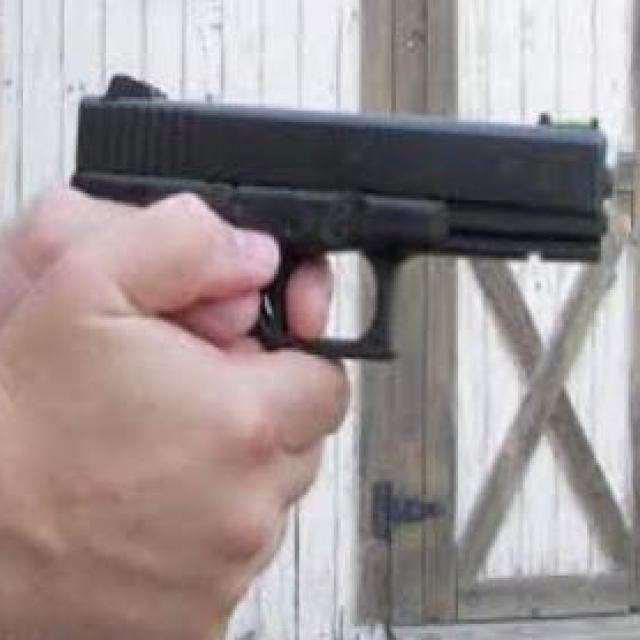pistol: (78, 67, 631, 382)
